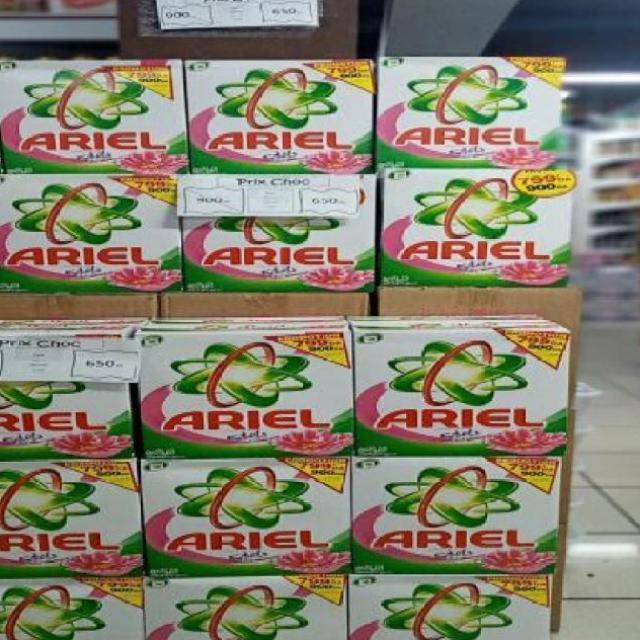Detergent: (357, 329, 569, 457), (136, 335, 352, 455), (139, 458, 352, 578), (352, 456, 558, 576), (176, 176, 371, 296), (372, 168, 565, 288), (184, 58, 374, 176), (374, 54, 562, 171), (0, 59, 180, 176), (0, 172, 180, 289), (0, 460, 140, 581), (0, 338, 134, 458), (347, 572, 553, 640), (146, 577, 351, 640), (0, 578, 147, 640)
